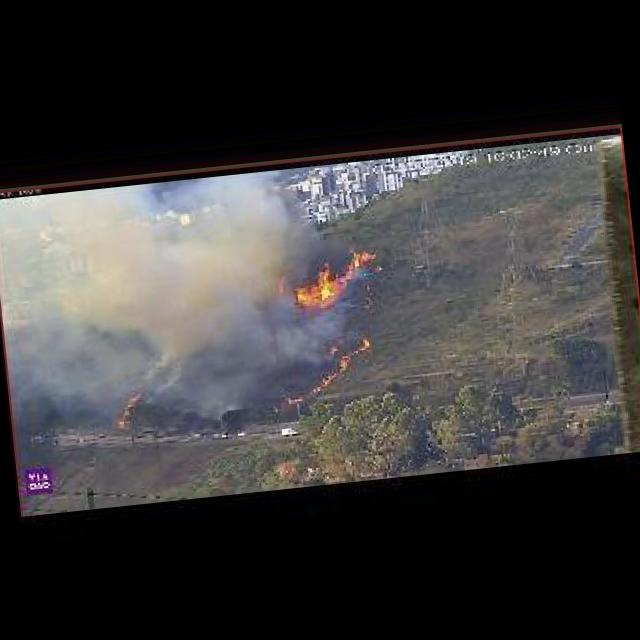Fire: (280, 240, 386, 316)
Smoke: (0, 163, 298, 384)
